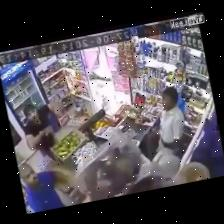person: (146, 87, 184, 160), (23, 102, 65, 160), (18, 164, 66, 212), (174, 162, 209, 184)
